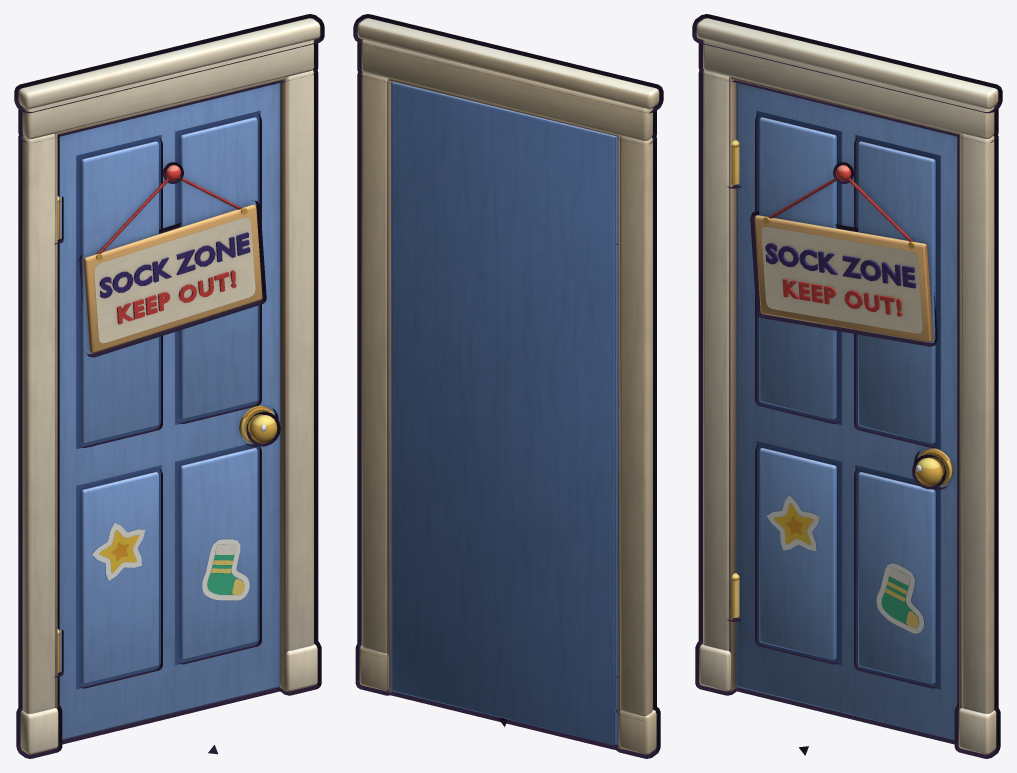
Rendered from Door.glb.
3 renders of one model, left to right at view 1: azimuth 30°, elevation 25°; view 2: azimuth 150°, elevation 25°; view 3: azimuth 330°, elevation 25°, orthographic.
Parts seen in each view (by area): view 1: Door, Door_Outline; view 2: Door, Door_Outline; view 3: Door, Door_Outline.
Boxes of the visible parts, bbox=[...] form: Door: bbox=[18, 18, 320, 754]; Door_Outline: bbox=[14, 14, 324, 758]; Door: bbox=[357, 18, 659, 754]; Door_Outline: bbox=[353, 14, 663, 758]; Door: bbox=[696, 18, 998, 754]; Door_Outline: bbox=[692, 14, 1002, 758].
Bounding box in the file's own units: 3.59 × 7.59 × 1.08.
2 materials, 2 textured.
